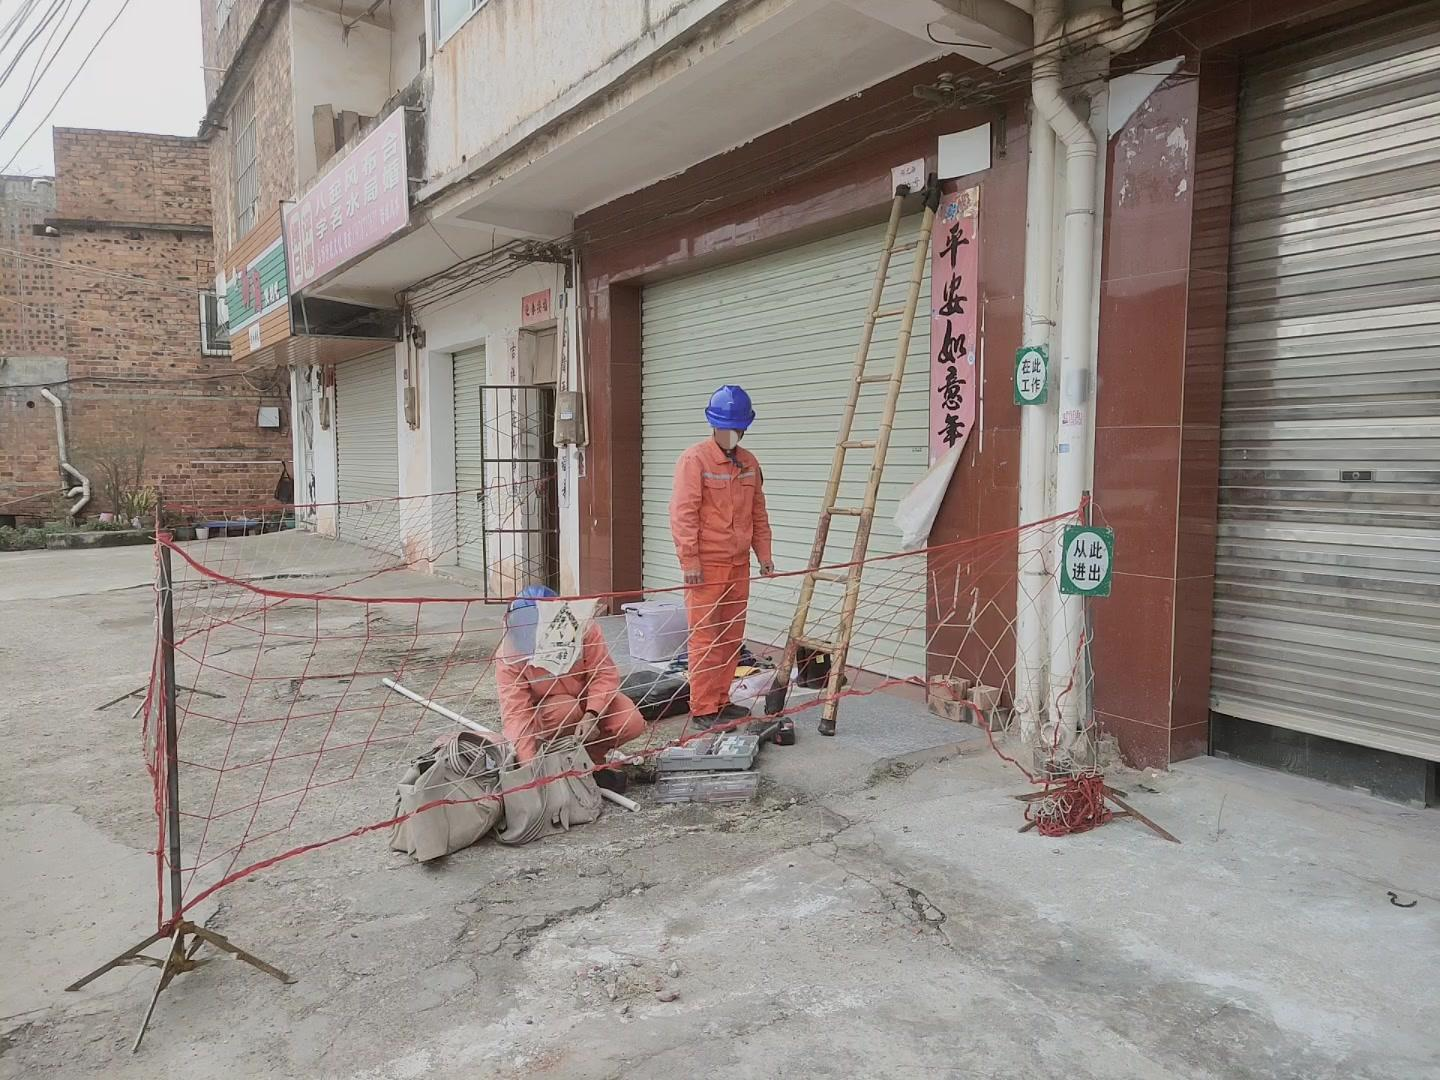halt: (706, 387, 757, 447)
